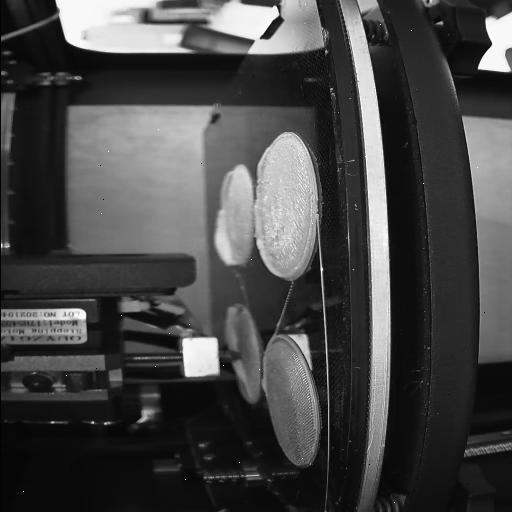over_extrusion: (223, 302, 239, 348), (230, 362, 252, 394), (254, 144, 272, 182), (260, 376, 270, 395)
